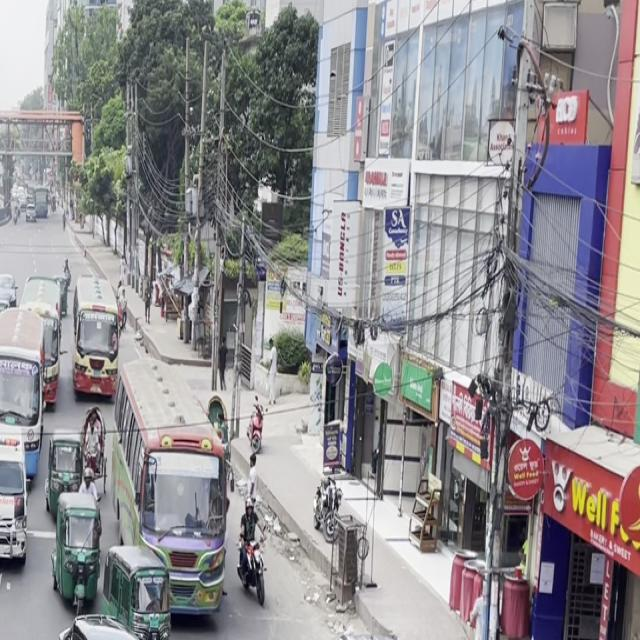bus: (105, 338, 248, 619), (73, 264, 127, 408), (0, 303, 61, 427)
car: (0, 433, 31, 580), (47, 609, 190, 640), (306, 623, 478, 640), (0, 586, 3, 640)
motorbike: (234, 495, 271, 613)
rickshaw: (101, 532, 177, 640), (50, 483, 107, 613)
